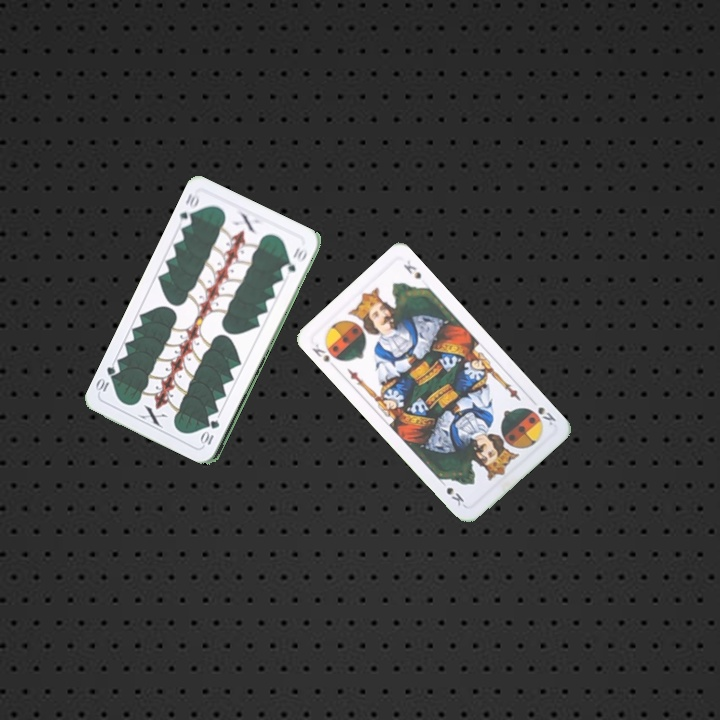G10: (175, 189, 202, 230), (199, 415, 222, 448)
SK: (308, 339, 343, 366), (534, 403, 559, 429)
